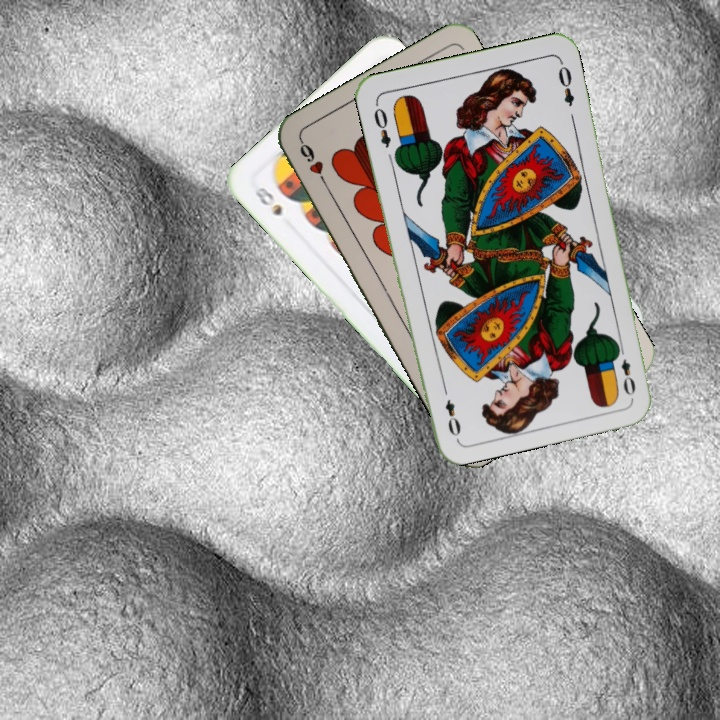EO: (611, 341, 638, 398), (369, 99, 394, 150)
H9: (295, 136, 331, 191)
S8: (250, 183, 285, 219)
